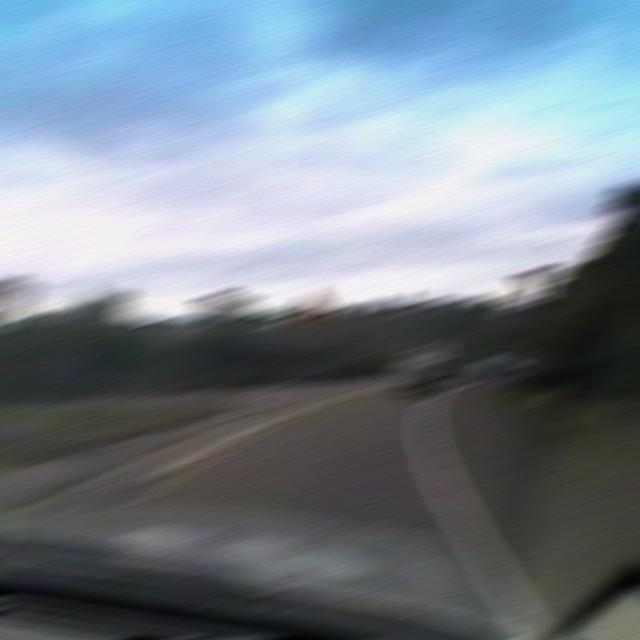yield: (513, 266, 555, 298)
